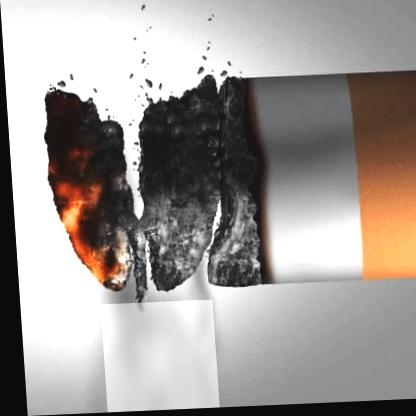smoke: (96, 301, 214, 413)
